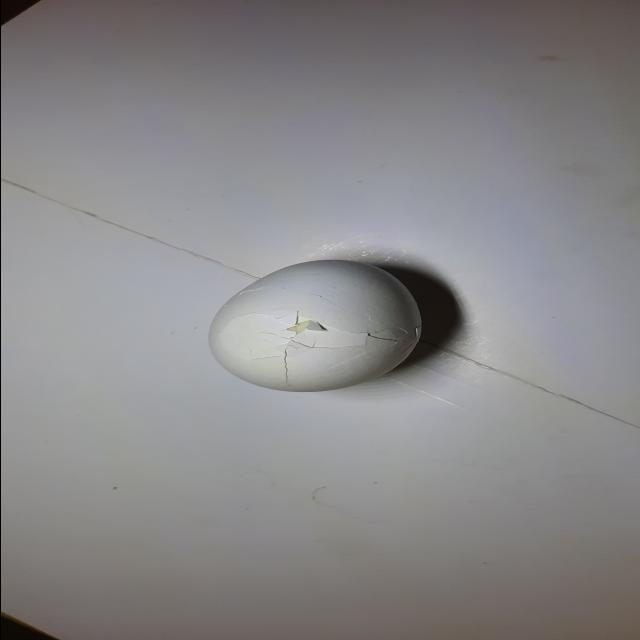egg shell: (202, 257, 426, 393)
